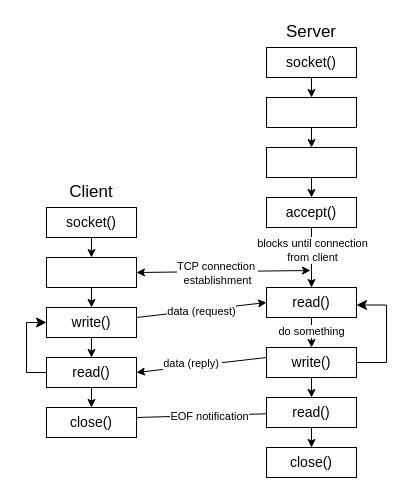
Some shapes in this 414 by 495 pixel diagram are drawn without their labels. Here are the shapes that lost their labels. From the top down, the centre of each, then its label:
At point (311, 112): "bind()".
At point (311, 162): "listen()".
At point (91, 272): "connect()".
